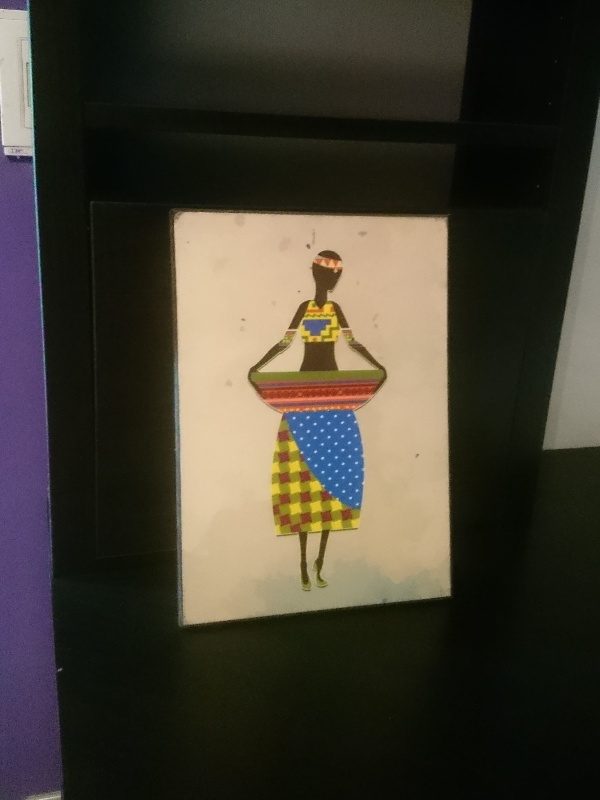my image: (179, 216, 446, 625)
